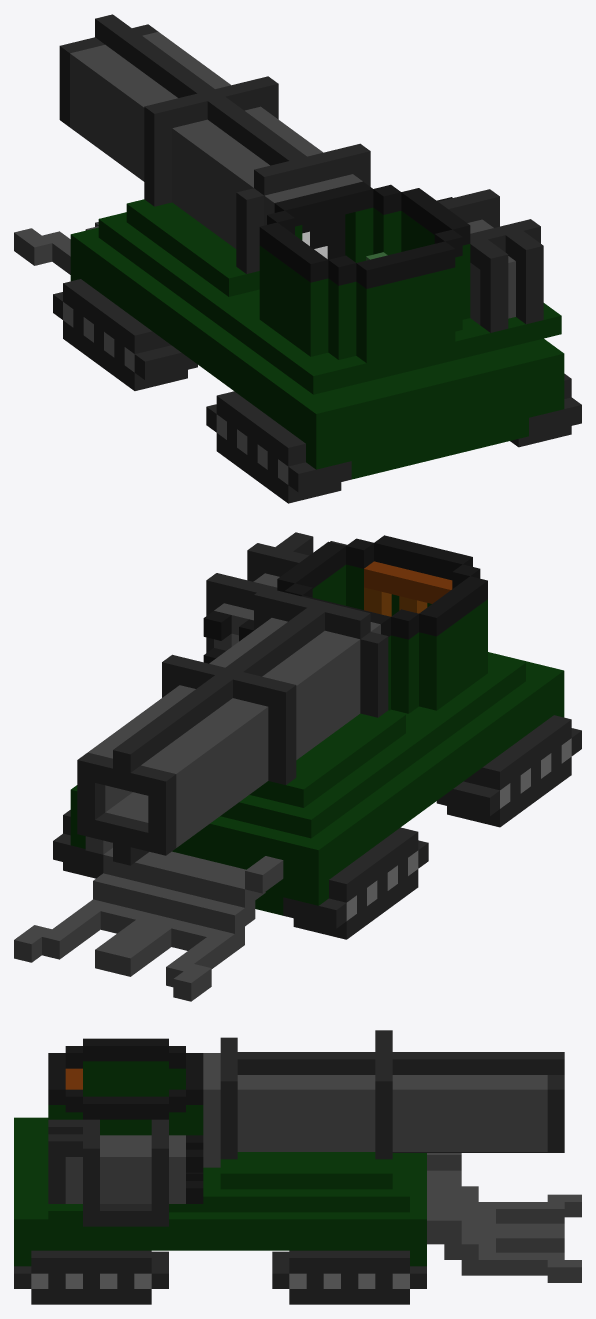
Rendered from old tank.obj.
3 views of the same model, one above another, from view 1: azimuth 30°, elevation 25°; view 2: azimuth 150°, elevation 25°; view 3: azimuth 270°, elevation 25° (orthographic). The views are drawn at different scales.
Size of the model in its own units: 1.6 by 1.2 by 3.3.
1 material, 1 textured.
